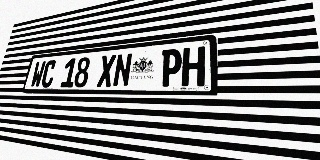1: (60, 58, 78, 87)
8: (73, 57, 92, 87)
C: (40, 60, 57, 88)
H: (181, 46, 205, 86)
N: (112, 53, 133, 87)
P: (159, 48, 182, 87)
W: (30, 61, 46, 88)
X: (96, 54, 116, 87)
